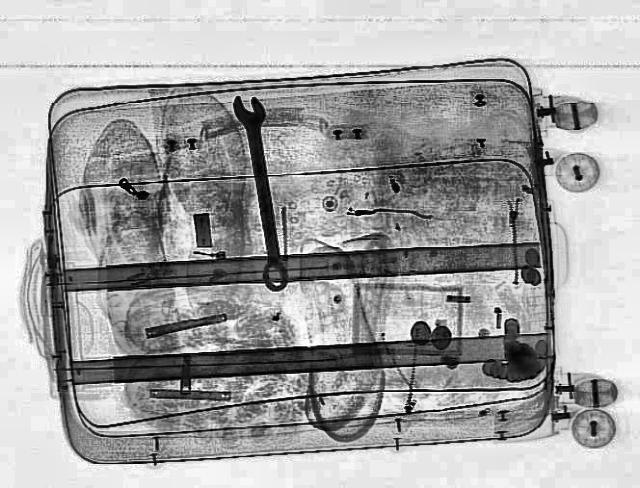Wrench: (230, 93, 292, 294)
